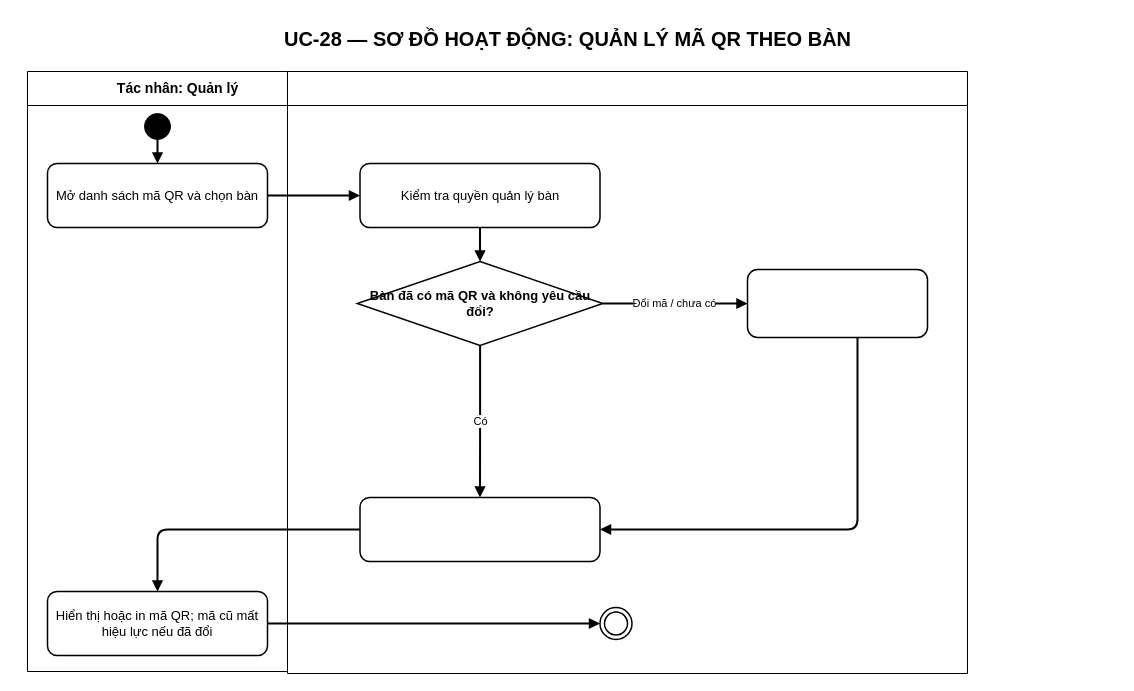
Some shapes in this 1134 by 691 pixel diagram are drawn without their labels. Here are the shapes that lost their labels. From the top down, the box of each, then its label:
(746, 268, 928, 338): Thu hồi mã cũ và sinh mã mới
(286, 70, 968, 674): Hệ thống
(359, 496, 600, 562): Trả mã QR đang dùng của bàn
